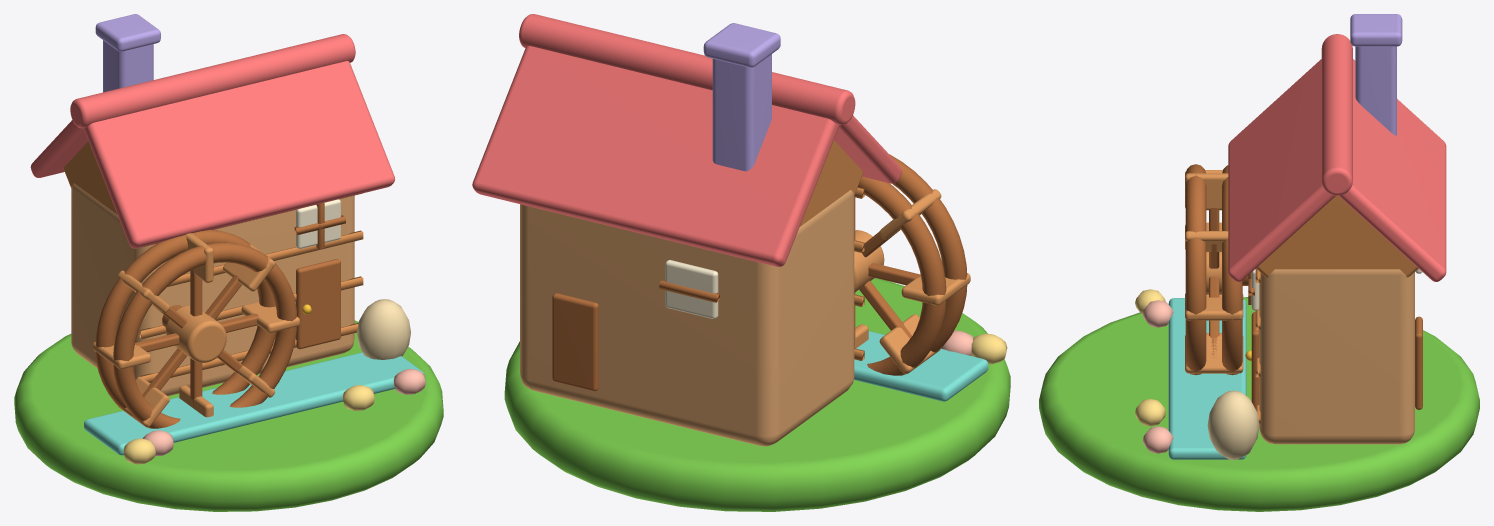
Rendered from DecorWatermill.fbx.
3 renders of one model, left to right at view 1: azimuth 30°, elevation 25°; view 2: azimuth 150°, elevation 25°; view 3: azimuth 270°, elevation 25°, orthographic. The views are drawn at different scales.
Parts seen in each view (by area): view 1: DecorWatermill mesh; view 2: DecorWatermill mesh; view 3: DecorWatermill mesh.
Boxes of the visible parts, <box> form: DecorWatermill mesh: <box>14,14,443,511</box>; DecorWatermill mesh: <box>472,14,1010,511</box>; DecorWatermill mesh: <box>1039,14,1479,511</box>.
Bounding box in the file's own units: 0.34 × 0.323 × 0.34.
